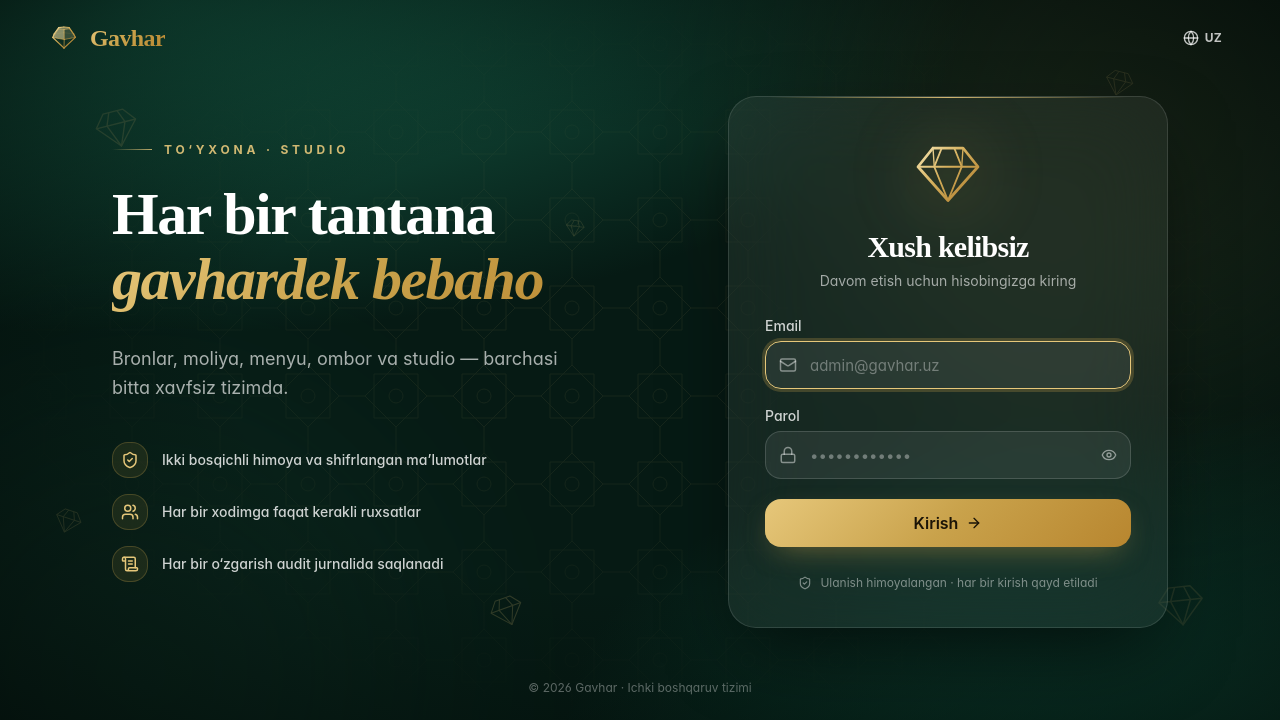
Test: LoginPage › noto'g'ri email formatini ushlaydi
In the field labelled "Email": point(948, 365) [765,341,1131,389], type "email-emas"
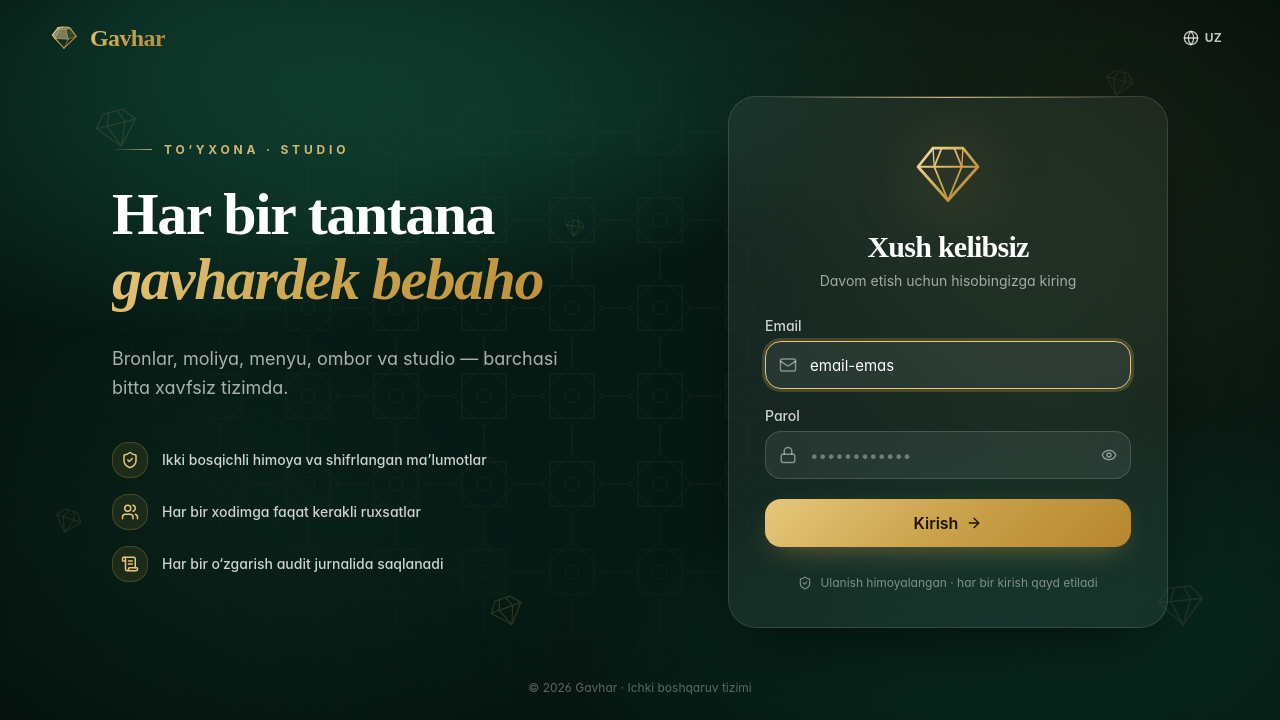
In the password field labelled "Parol": point(948, 455) [765,431,1131,479], type "x"
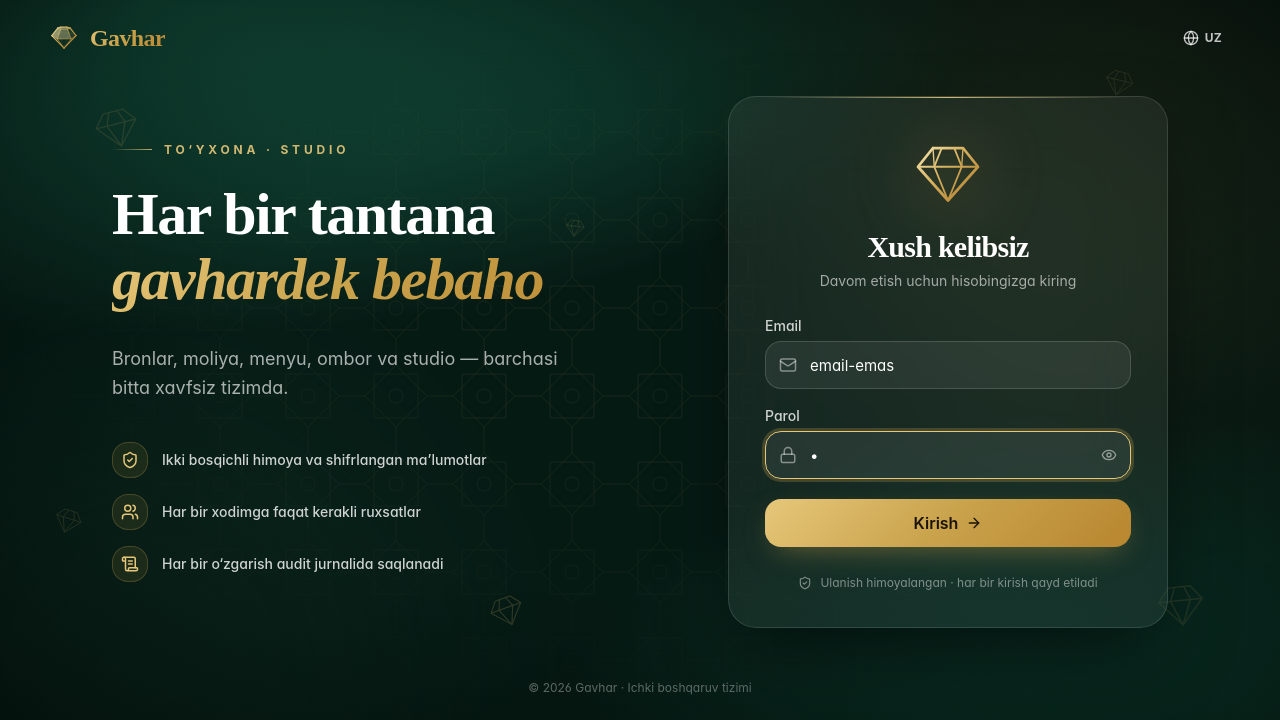
Click the button "Kirish": point(948, 523) [765,499,1131,547]
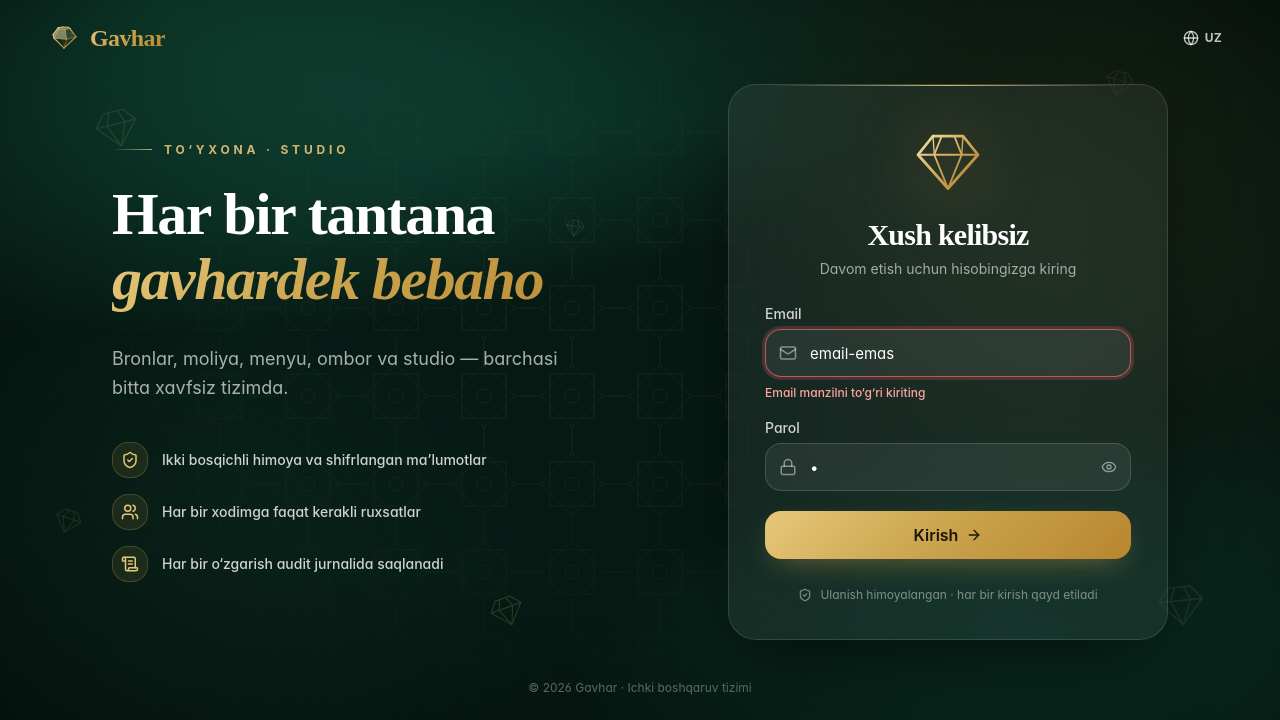
Now the text "Email manzilni to‘g‘ri kiriting" is shown, box [765,385,925,400]
